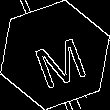M_N: (23, 24, 87, 86)
